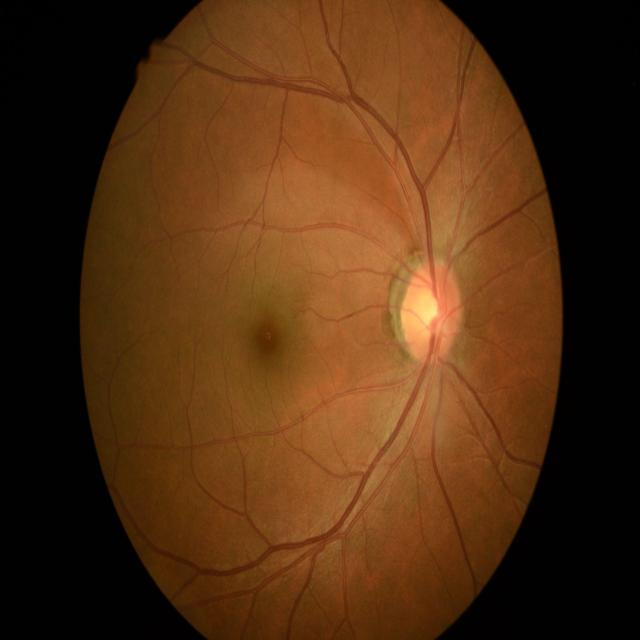cup: (415, 280, 448, 342)
disk: (400, 261, 462, 361)
